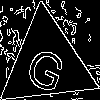G: (22, 37, 73, 96)
